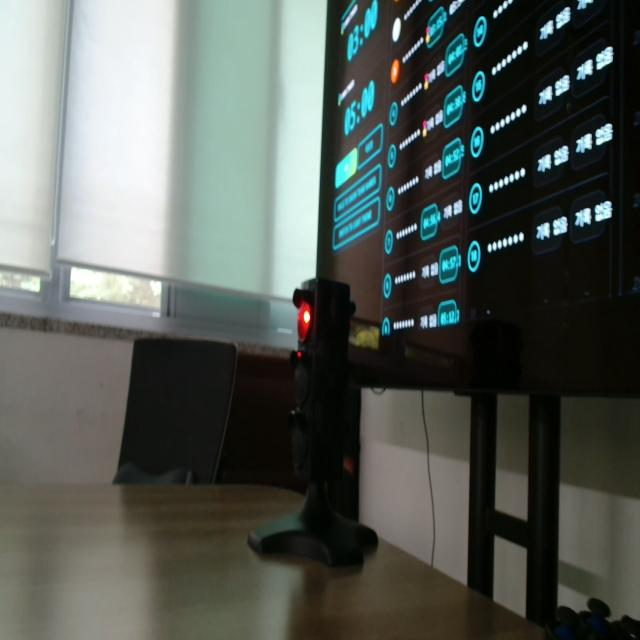red_light: (298, 302, 311, 341)
